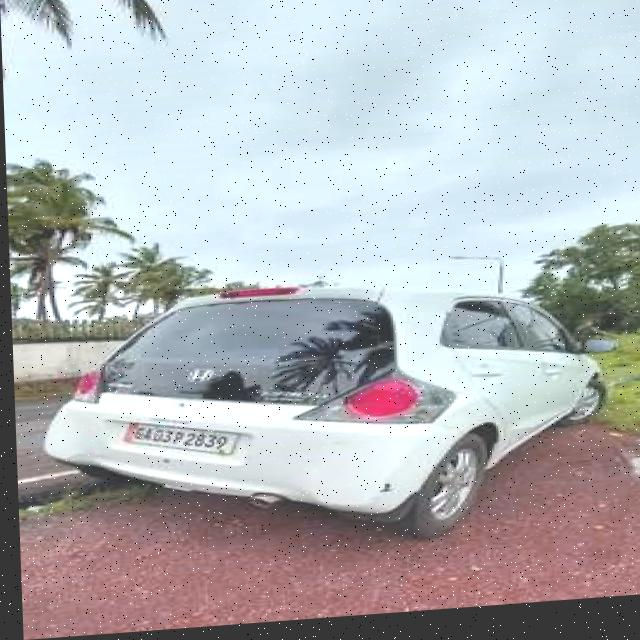plate: (116, 418, 236, 465)
